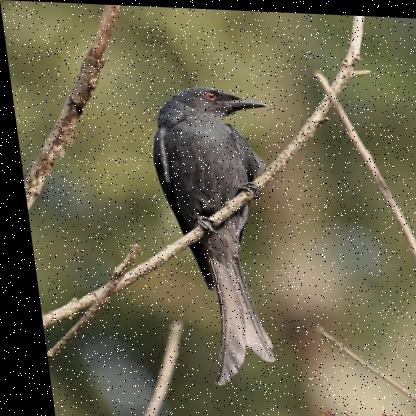Burung: (137, 78, 295, 395)
